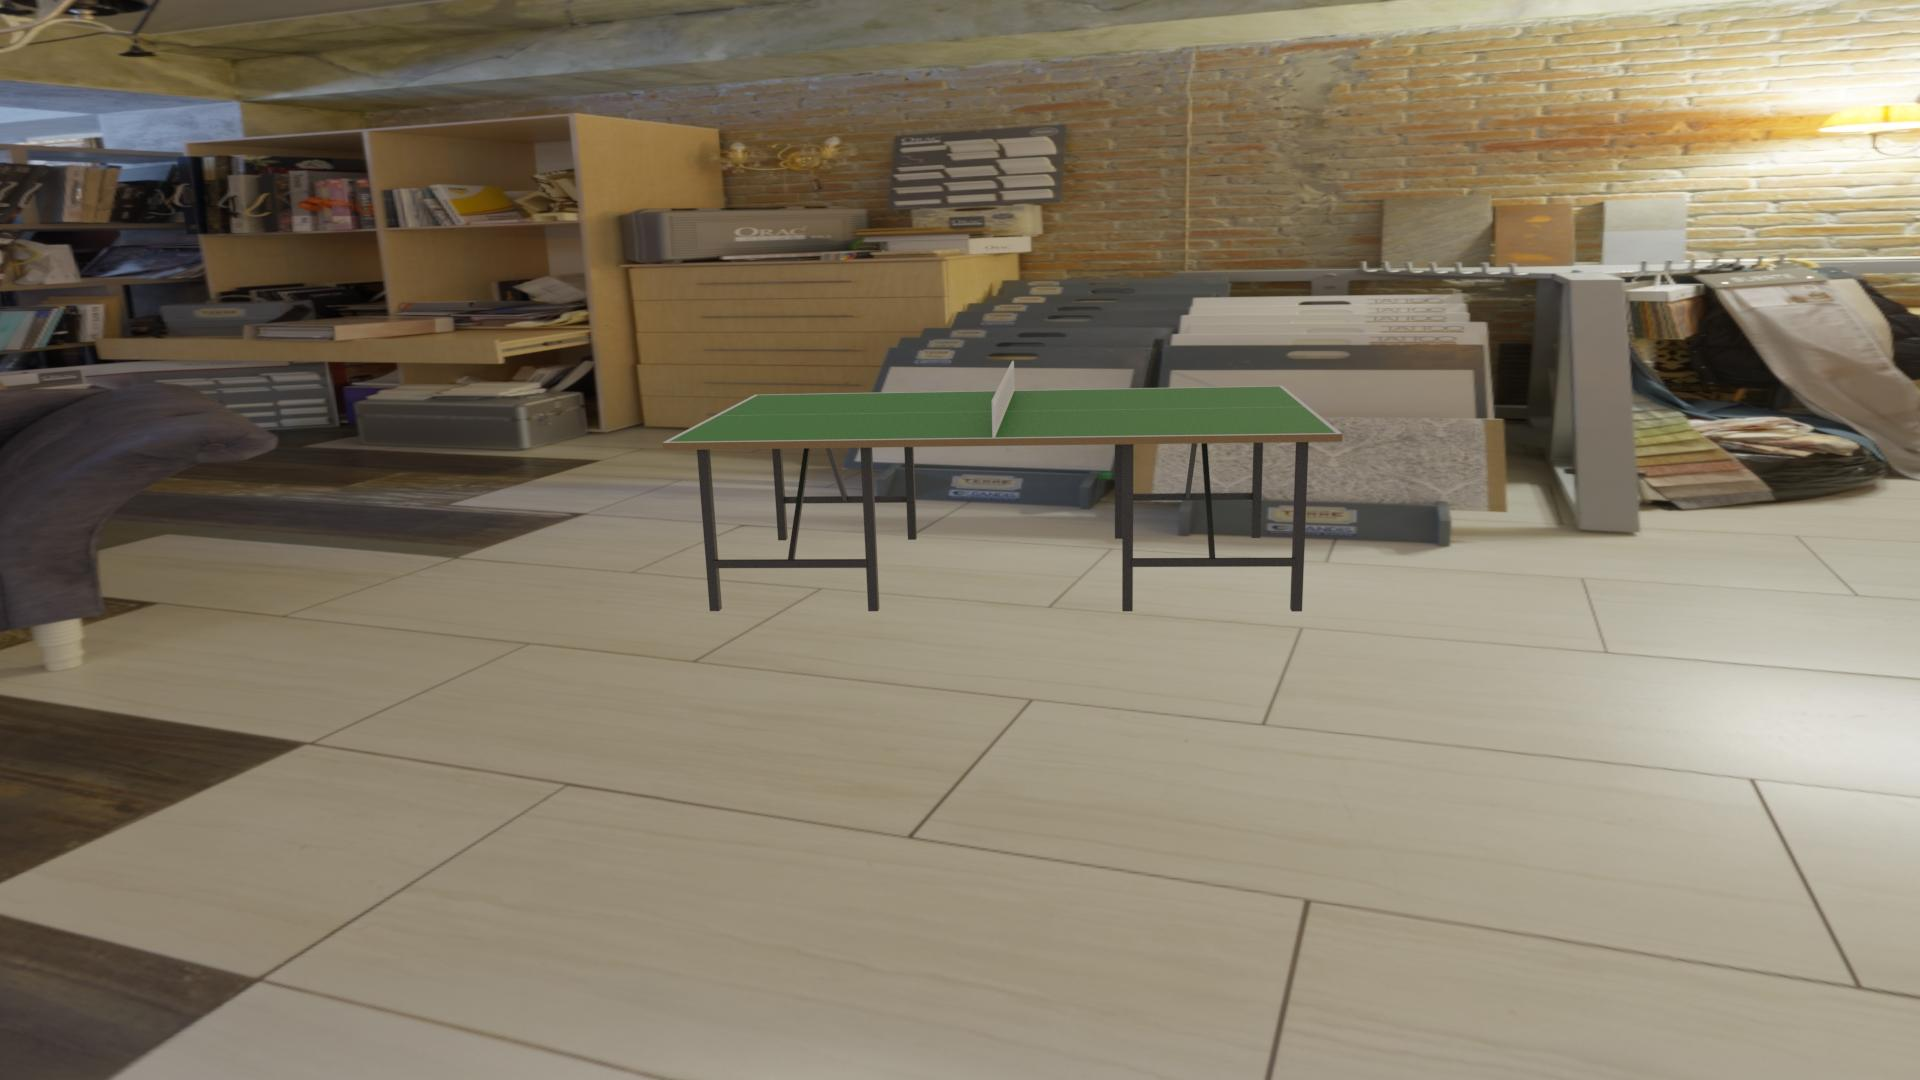table: (669, 386, 1336, 442)
